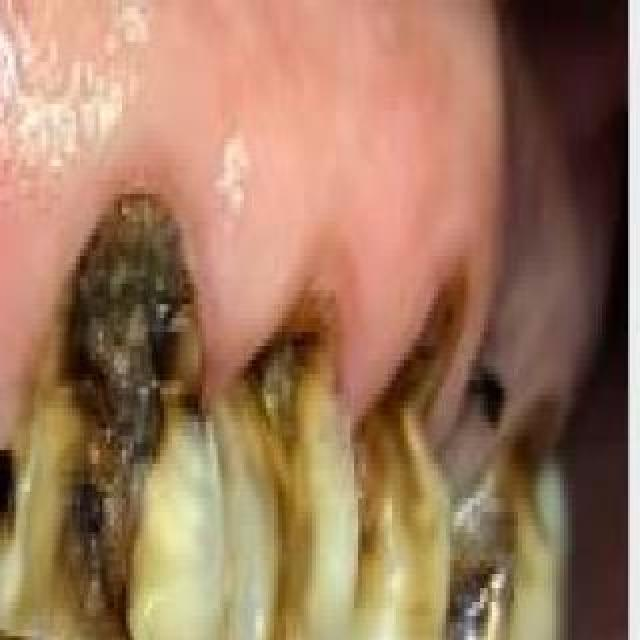cavities: (66, 204, 224, 640), (230, 348, 350, 640), (452, 498, 550, 640)
spacing: (8, 618, 74, 640)
